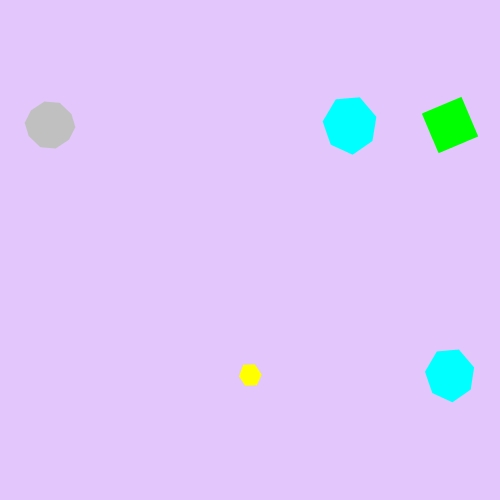decagon: (21, 99, 79, 152)
heptagon: (319, 95, 382, 155), (421, 347, 480, 403)
hexagon: (234, 361, 267, 389)
quadrilateral: (417, 92, 483, 158)
